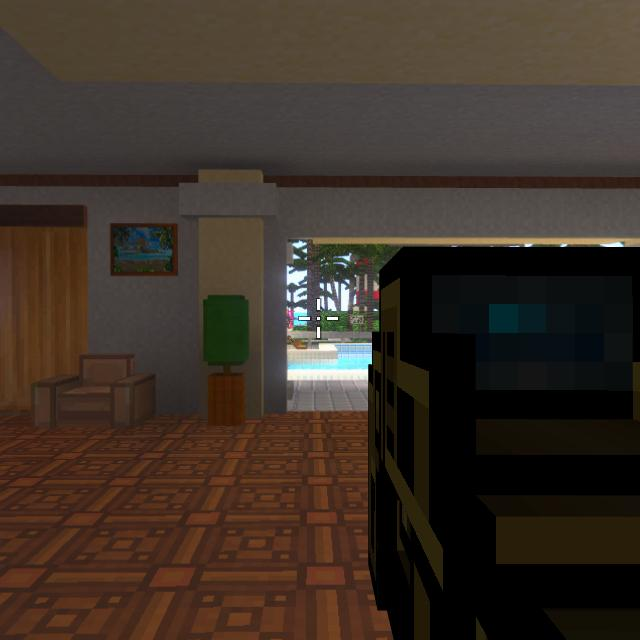Enemy: (287, 315, 292, 328)
